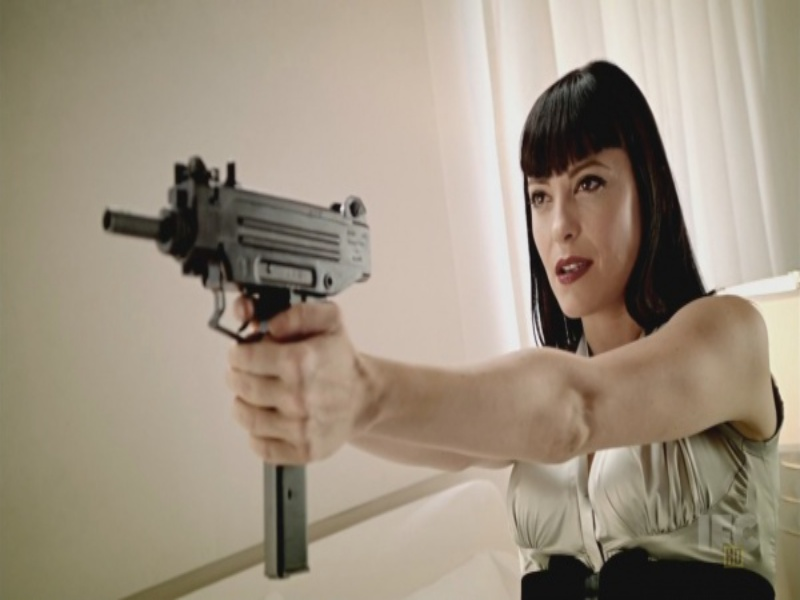person: (231, 56, 786, 593)
weapon: (95, 142, 385, 566)
